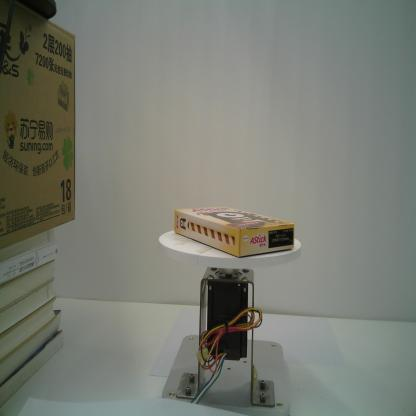Dessert: (173, 203, 296, 259)
